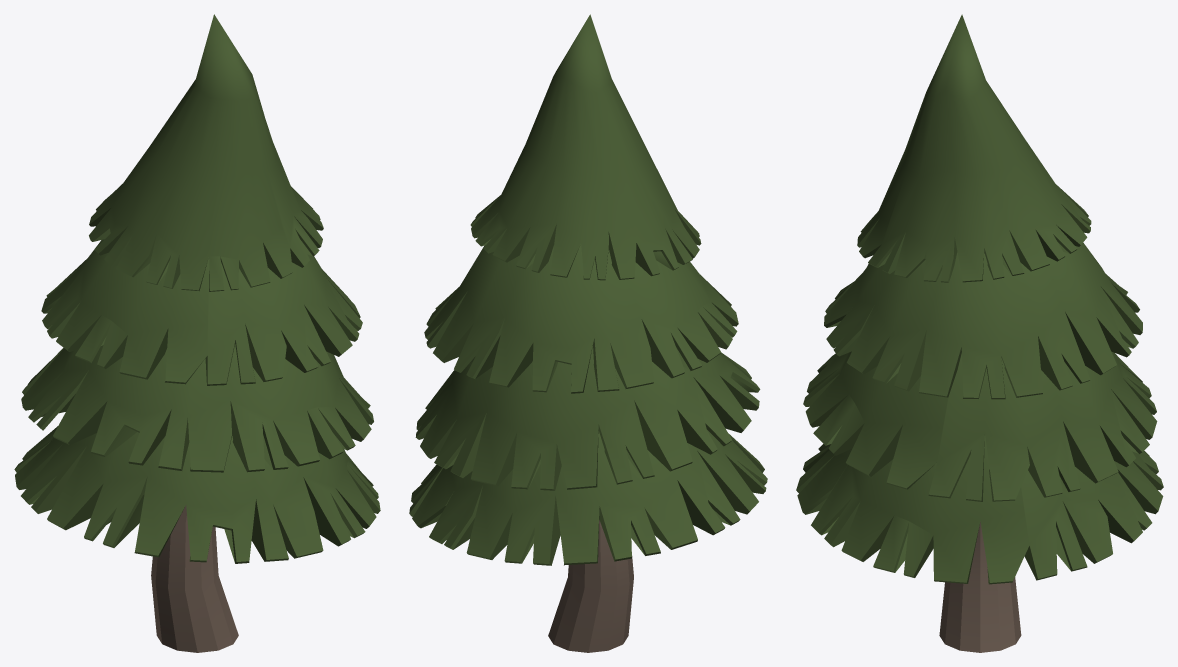
Rendered from DennenboomHoog2.fbx.
3 renders of one model, left to right at view 1: azimuth 30°, elevation 25°; view 2: azimuth 150°, elevation 25°; view 3: azimuth 270°, elevation 25°, orthographic. The views are drawn at different scales.
Parts seen in each view (by area): view 1: polySurface2178; view 2: polySurface2178; view 3: polySurface2178.
Part boxes in pixels (x1=…): polySurface2178: x1=14, y1=14, x2=380, y2=652; polySurface2178: x1=409, y1=14, x2=767, y2=652; polySurface2178: x1=796, y1=14, x2=1163, y2=652.
Size of the model in its own units: 6.22 by 11.76 by 6.27.
